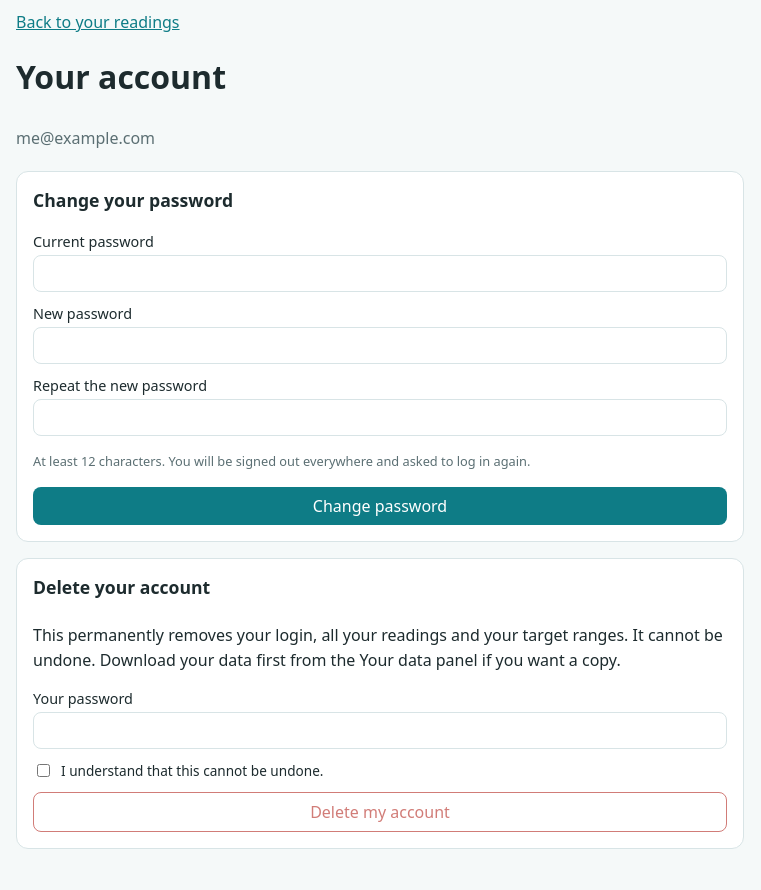
AccountPage: deleting the account › shows the server's message and keeps the account when the password is wrong
The width and height of the screenshot is (761, 890).
Type "Wrong-Passw0rd-12345" into the password field labelled "Your password" at (380, 730), box [33, 712, 727, 749]
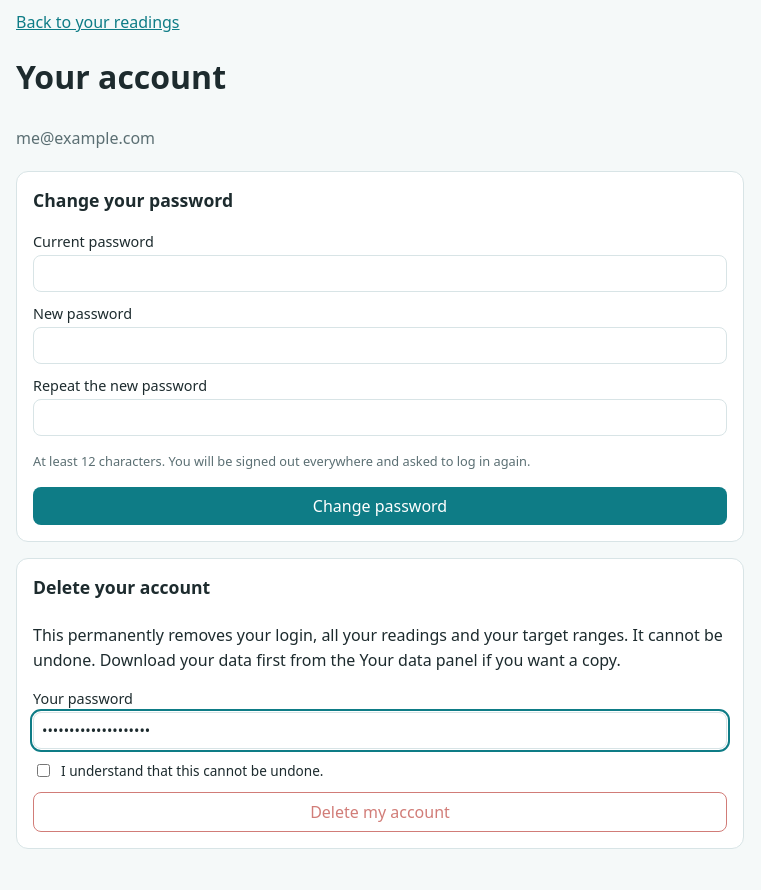
Click the checkbox at (44, 771), box [37, 764, 50, 777]
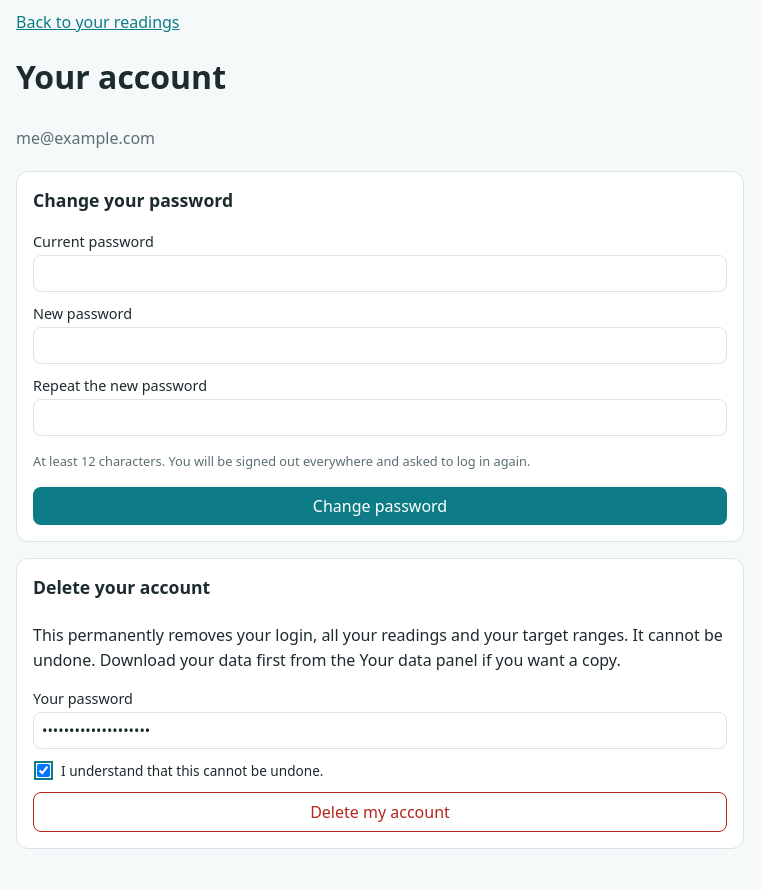
Click the button "Delete my account" at (380, 812), box [33, 792, 727, 832]
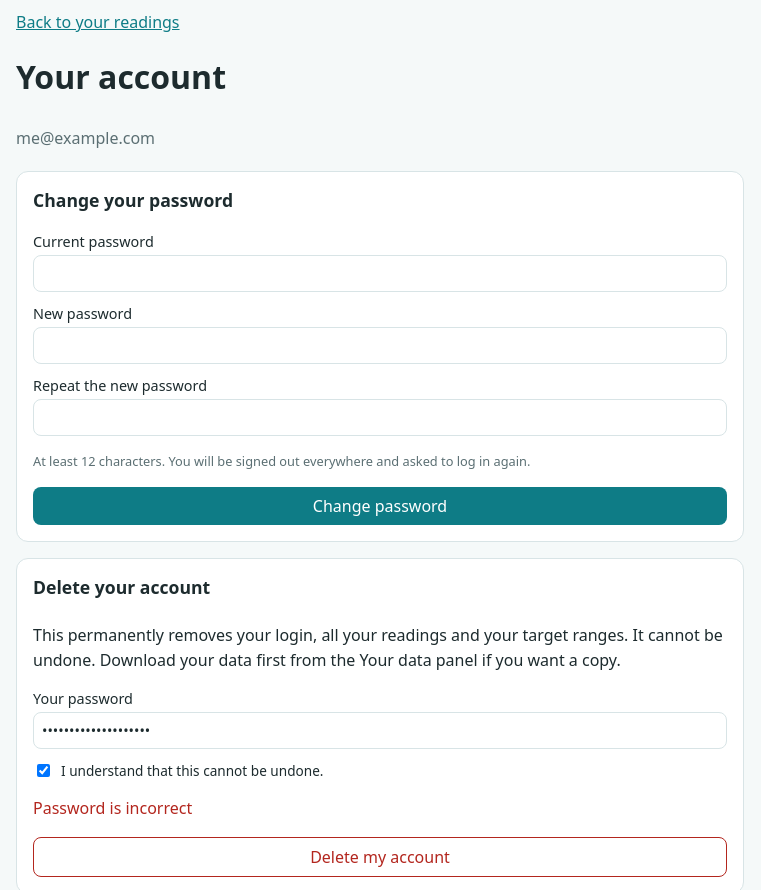
Expected: the message reads "Password is incorrect", [33, 797, 192, 819]
